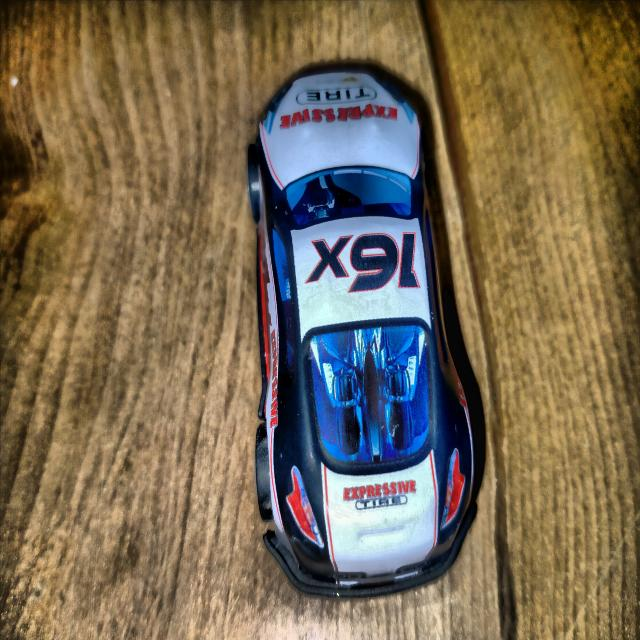Car: (248, 66, 477, 594)
